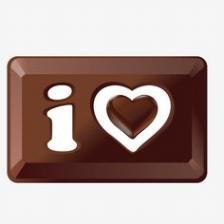brown: (8, 57, 208, 183)
